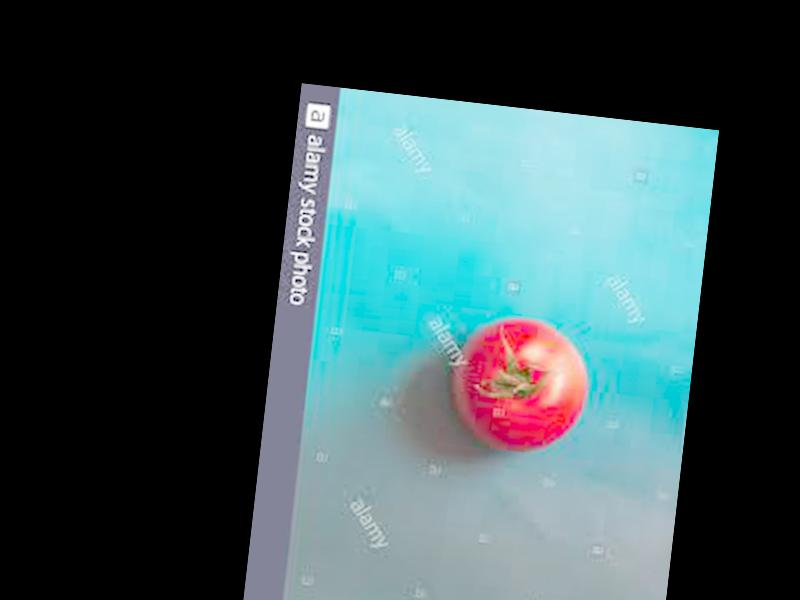Tomato: (445, 312, 595, 457)
